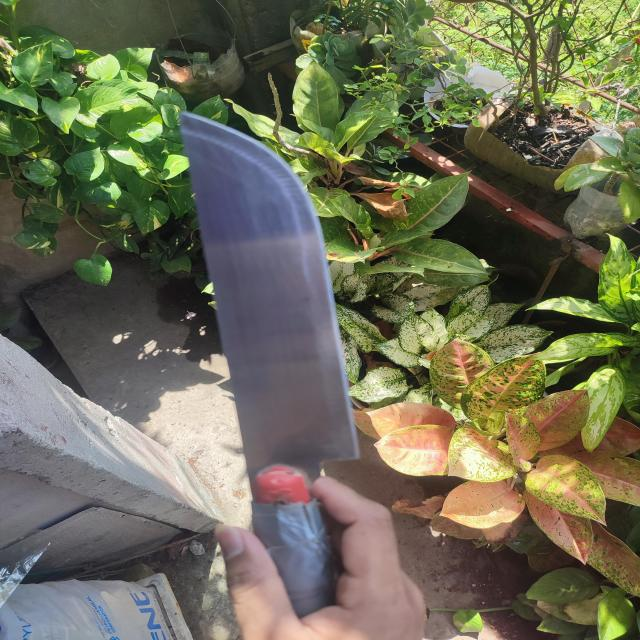knife: (183, 115, 359, 517)
